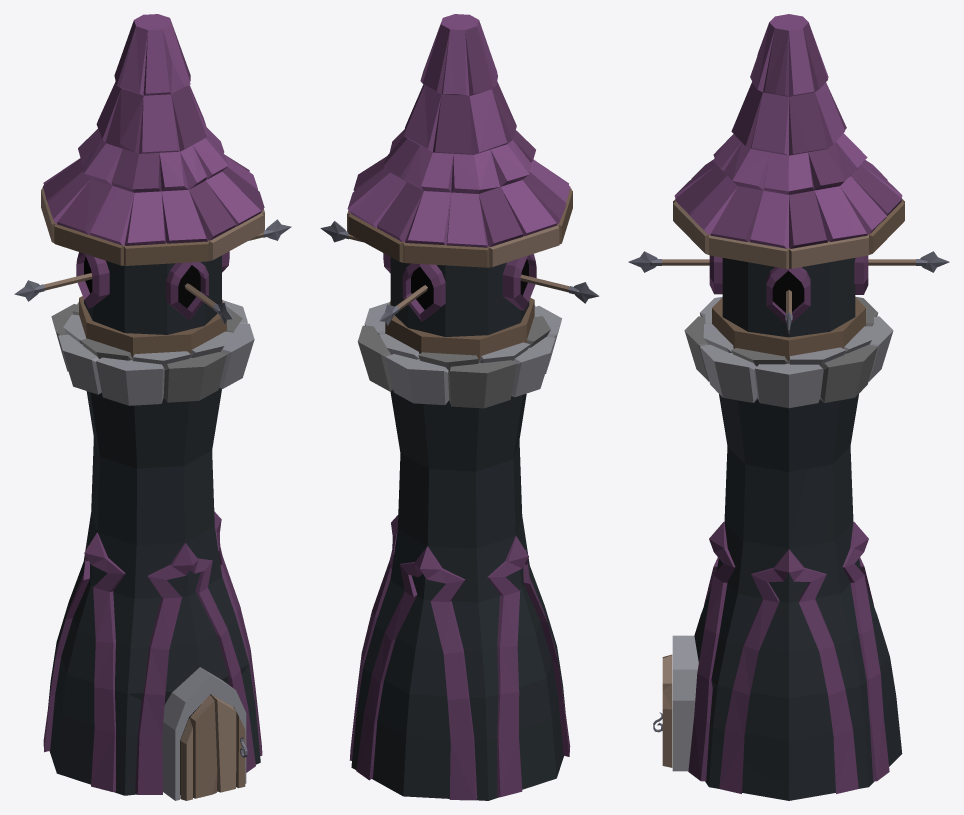
The model's file is Archer_LVL1.fbx.
3 renders of one model, left to right at view 1: azimuth 30°, elevation 25°; view 2: azimuth 150°, elevation 25°; view 3: azimuth 270°, elevation 25°, orthographic.
Visible parts, largest first — view 1: archer_tower_LVL_1, archer_tower_LVL_1.001; view 2: archer_tower_LVL_1, archer_tower_LVL_1.001; view 3: archer_tower_LVL_1, archer_tower_LVL_1.001.
Part boxes in pixels (bbox=[...]): archer_tower_LVL_1: bbox=[41, 14, 264, 800]; archer_tower_LVL_1.001: bbox=[14, 219, 291, 334]; archer_tower_LVL_1: bbox=[347, 14, 572, 800]; archer_tower_LVL_1.001: bbox=[320, 221, 599, 336]; archer_tower_LVL_1: bbox=[653, 14, 904, 800]; archer_tower_LVL_1.001: bbox=[628, 251, 949, 337].
Bounding box in the file's own units: 595 × 1494 × 595.
